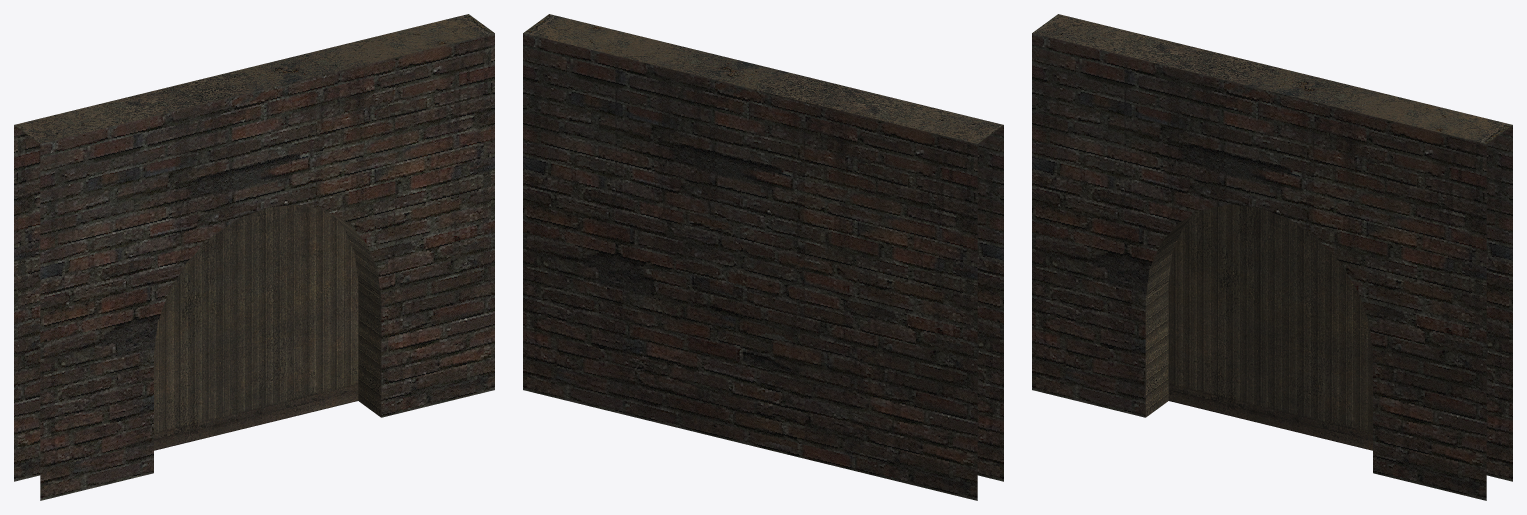
File: wall_hs_15.glb
3 renders of one model, left to right at view 1: azimuth 30°, elevation 25°; view 2: azimuth 150°, elevation 25°; view 3: azimuth 330°, elevation 25°, orthographic.
Visible parts, largest first — view 1: wall_hs_15; view 2: wall_hs_15; view 3: wall_hs_15.
Boxes of the visible parts, x1,y1,x2,y2 form: wall_hs_15: [14, 14, 494, 500]; wall_hs_15: [523, 14, 1003, 500]; wall_hs_15: [1032, 14, 1512, 500].
Size of the model in its own units: 4 by 3 by 0.4.
Materials: 3 (3 with a texture image).
